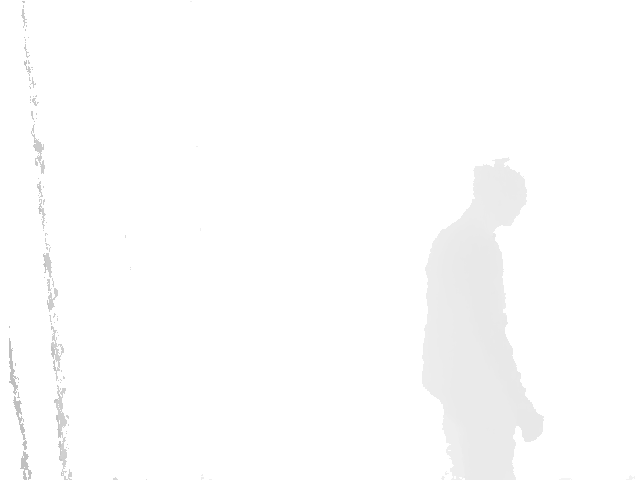head: (473, 158, 528, 229)
person: (419, 158, 547, 480)
